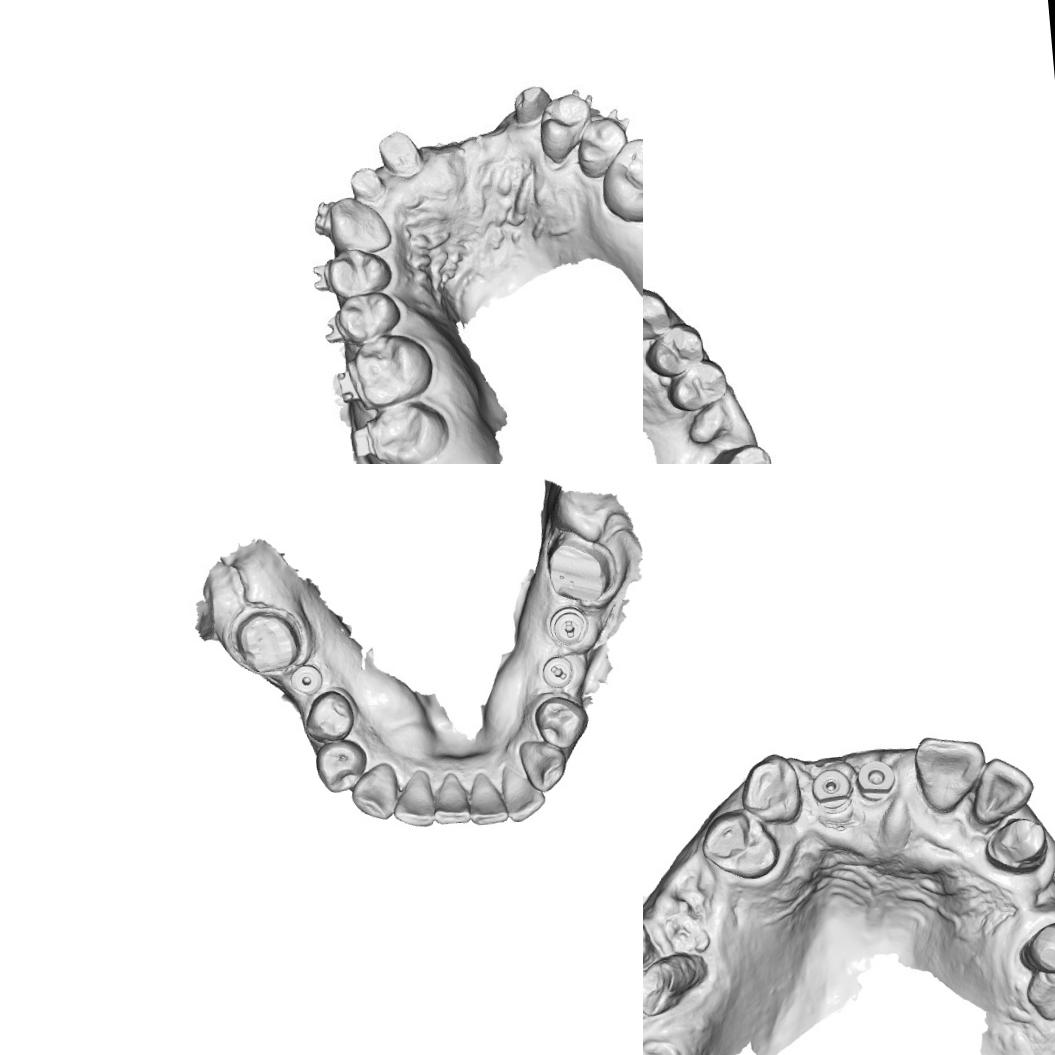canine: (737, 750, 804, 828), (346, 760, 400, 826), (513, 734, 570, 794), (643, 293, 667, 340)
crown: (542, 528, 620, 608), (227, 604, 302, 678), (379, 128, 424, 181), (347, 164, 388, 201), (513, 83, 553, 116)
implant: (804, 767, 850, 813), (857, 758, 897, 802), (286, 660, 326, 698)
implant_minus: (548, 606, 590, 646), (539, 653, 579, 692)
incisor: (910, 730, 991, 812), (966, 752, 1038, 823), (390, 766, 441, 830), (496, 762, 548, 824), (328, 198, 386, 250), (428, 769, 473, 829), (464, 767, 508, 828)
molar: (355, 332, 432, 400), (367, 399, 446, 464), (606, 137, 643, 213), (696, 439, 776, 464)
premolar: (698, 806, 782, 884), (535, 84, 597, 162), (572, 108, 632, 179), (530, 691, 592, 752), (668, 359, 734, 415), (299, 686, 358, 746), (643, 322, 706, 378), (312, 738, 370, 797), (327, 245, 387, 301), (340, 290, 402, 340), (1015, 909, 1055, 976)
